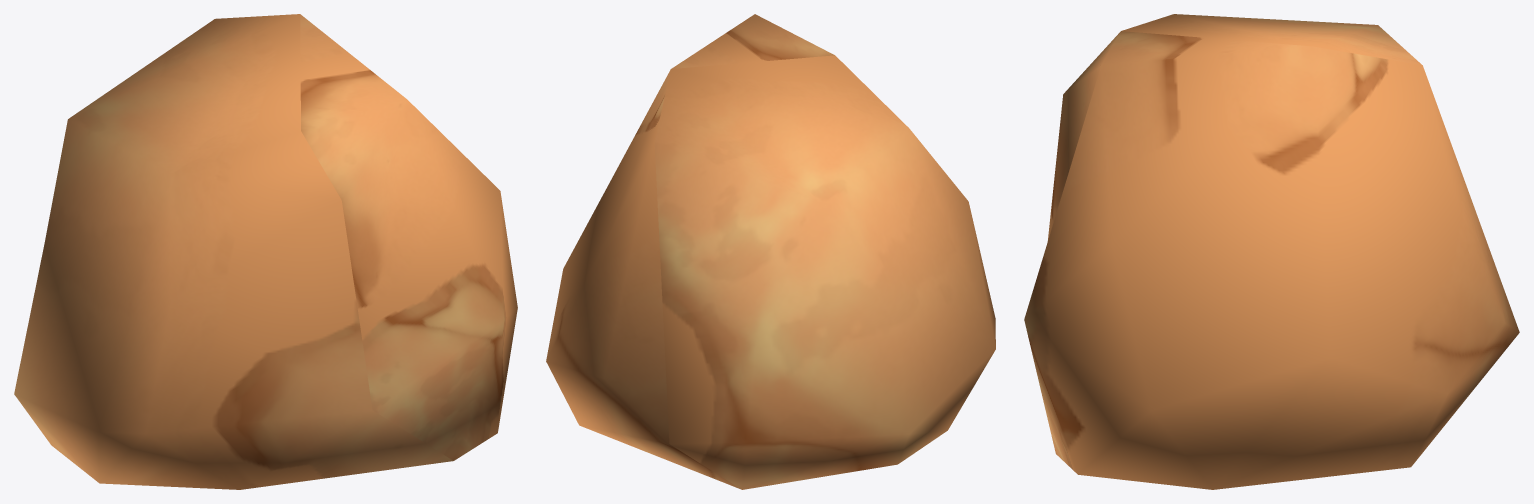
The model's file is Subrock_3.fbx.
3 views of the same model, side by side, from view 1: azimuth 30°, elevation 25°; view 2: azimuth 150°, elevation 25°; view 3: azimuth 270°, elevation 25° (orthographic). The views are drawn at different scales.
Parts seen in each view (by area): view 1: Rock_3_LOD0; view 2: Rock_3_LOD0; view 3: Rock_3_LOD0.
Part boxes in pixels (bbox=[...]): Rock_3_LOD0: bbox=[14, 14, 517, 489]; Rock_3_LOD0: bbox=[546, 14, 995, 489]; Rock_3_LOD0: bbox=[1024, 14, 1519, 489].
Size of what is drawn, in the model's own units: 26.53 by 22.44 by 25.44.
